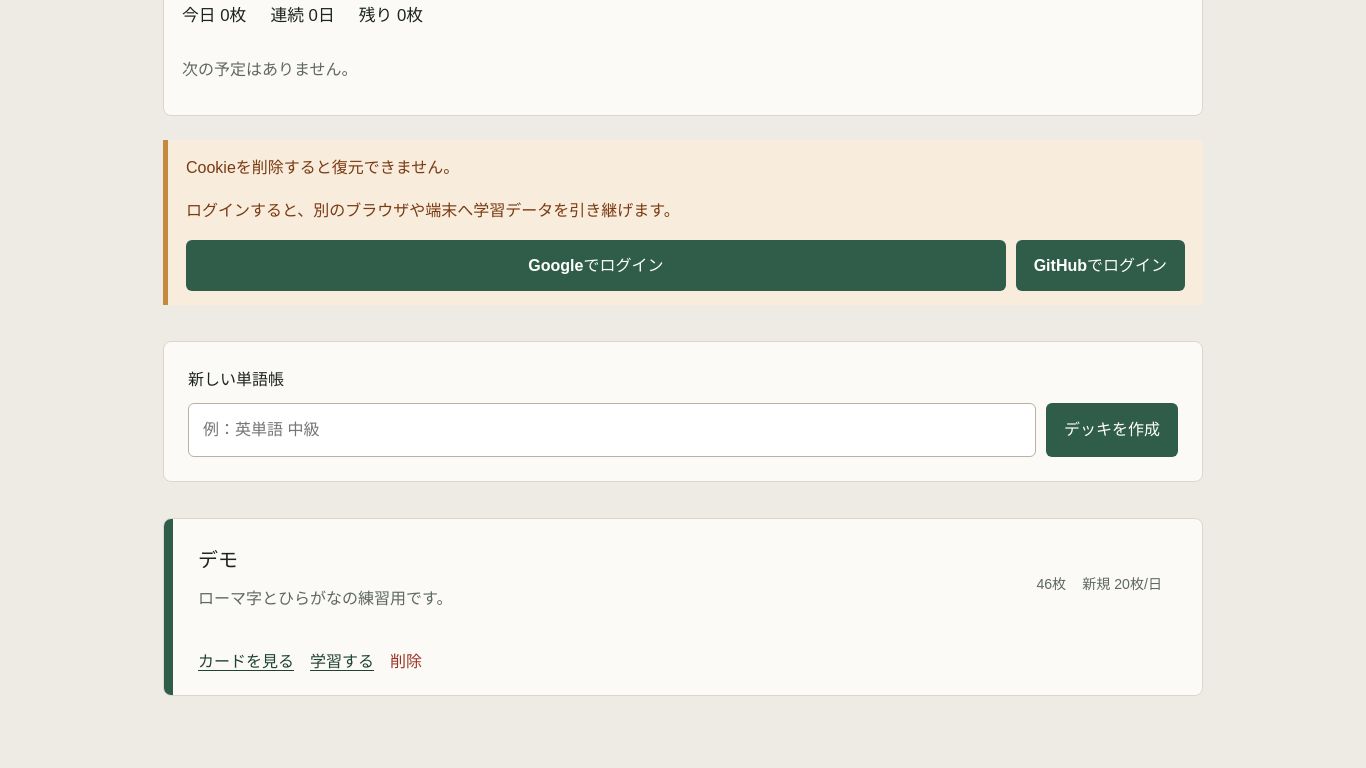
Test: DeckListScreen › 確認後にデモデッキを削除して一覧から消す
(page scrolled)
Expected: the heading "デモ" is shown, [198, 549, 238, 571]
What coordinates should you click on to do the following:
click the button with aria-label "デモを削除"
I would click on:
 (406, 661)
Its box is [390, 648, 422, 675].
(page scrolled)
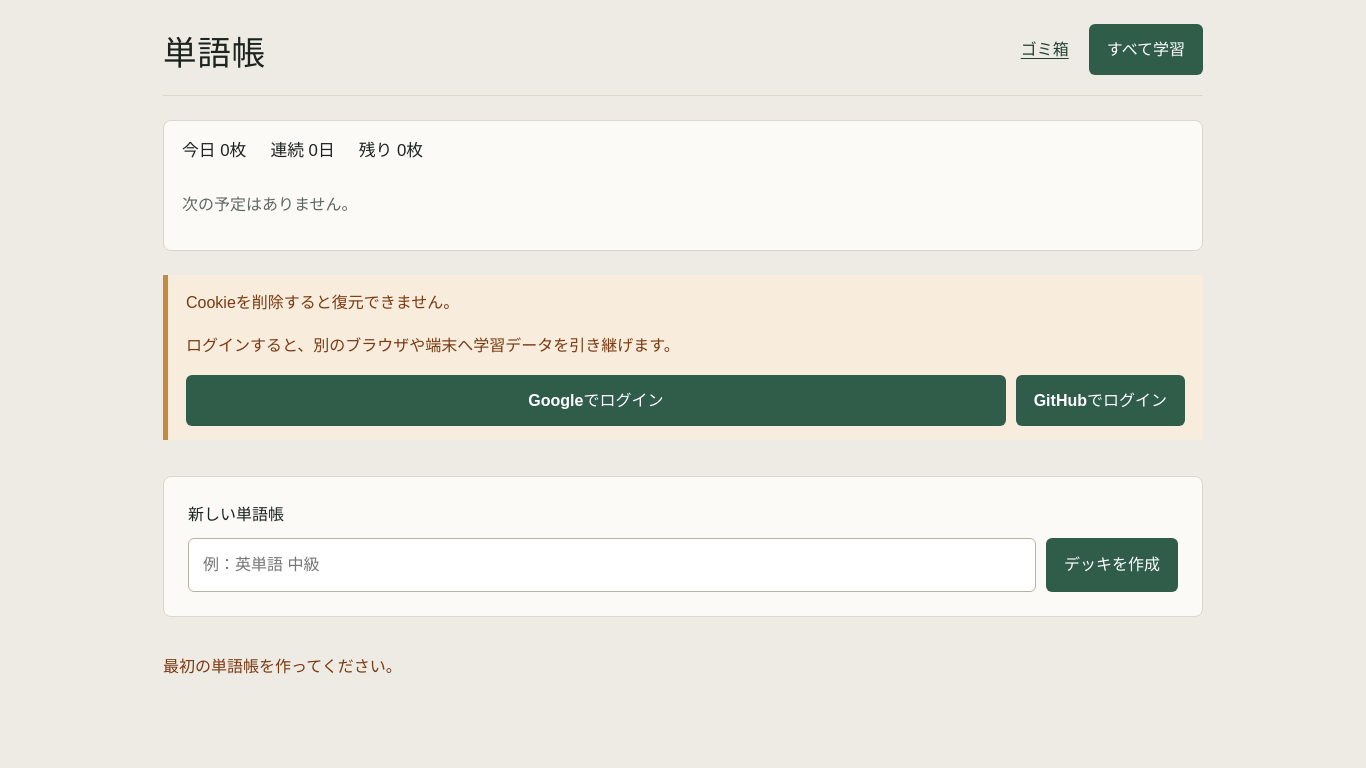
Result: the text "最初の単語帳を作ってください。" is shown at [163, 658, 402, 675]
Result: the heading "デモ" is gone
